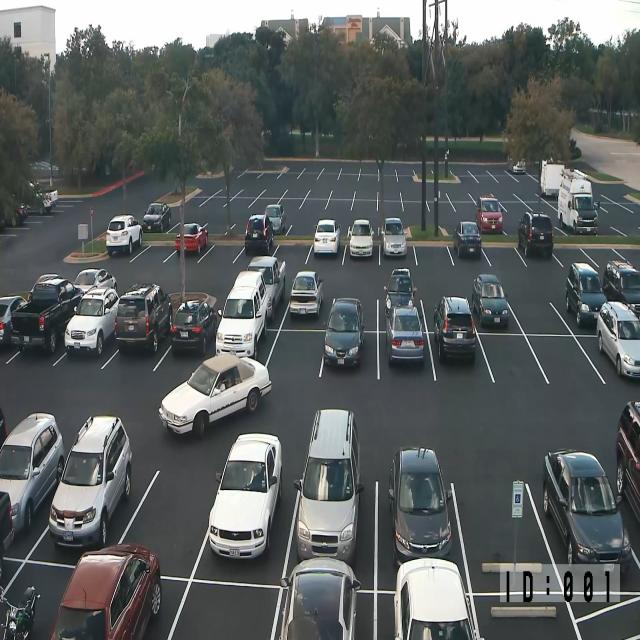car: (48, 414, 132, 548), (293, 407, 364, 564), (542, 448, 632, 570), (50, 543, 162, 639), (158, 352, 272, 439), (208, 431, 282, 560), (0, 411, 65, 537), (388, 445, 452, 566), (270, 556, 361, 639), (394, 556, 480, 640), (10, 274, 84, 354), (215, 270, 269, 360), (115, 282, 172, 353), (64, 286, 119, 356), (596, 301, 640, 378), (615, 399, 640, 524), (323, 296, 365, 368), (433, 295, 476, 363), (565, 261, 607, 327), (246, 255, 286, 322), (170, 298, 217, 355), (384, 304, 424, 365), (602, 259, 640, 318), (0, 584, 40, 639), (472, 274, 509, 327), (517, 210, 554, 258), (289, 270, 323, 317), (383, 267, 417, 314), (106, 214, 142, 255), (0, 294, 26, 346), (0, 489, 15, 576), (74, 268, 118, 295), (244, 213, 273, 253), (347, 218, 374, 258), (454, 220, 482, 258), (175, 222, 208, 254), (313, 218, 341, 255), (381, 216, 406, 257), (476, 195, 502, 234), (142, 202, 171, 232), (264, 203, 286, 235), (30, 160, 58, 172), (0, 406, 7, 453), (42, 188, 58, 208), (15, 202, 28, 225), (512, 158, 526, 174)
